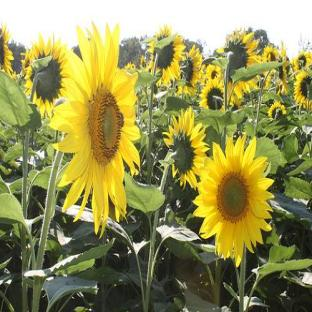sunflower: (49, 22, 141, 240), (193, 133, 275, 267)
